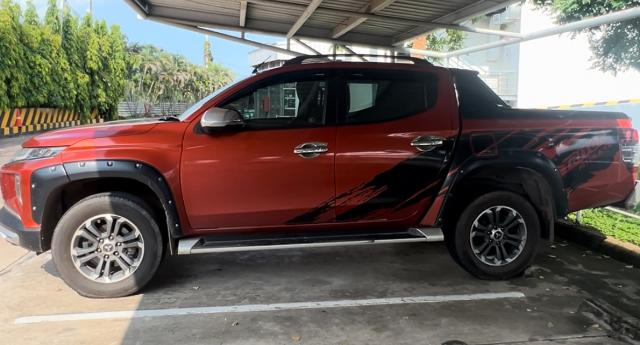pickup-truck: (2, 50, 640, 300)
